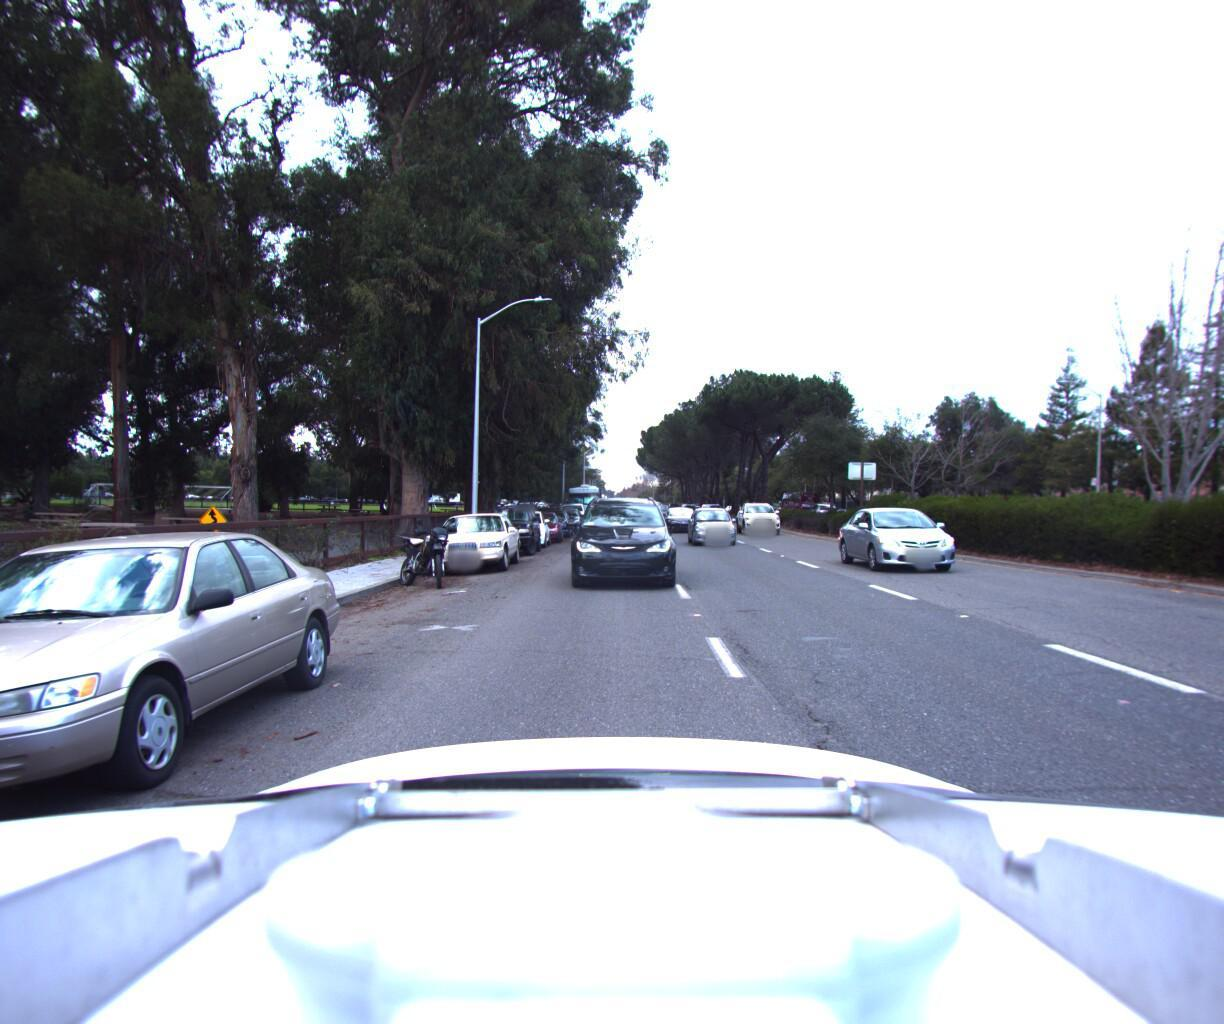car: (843, 504, 988, 581), (571, 490, 672, 592), (424, 506, 529, 577), (478, 493, 545, 556), (685, 501, 745, 546), (502, 500, 556, 547), (735, 496, 784, 533), (521, 506, 566, 541), (533, 504, 575, 537), (663, 504, 702, 536), (549, 503, 586, 531), (556, 498, 590, 528)
motorcycle: (394, 510, 473, 589)
other_vehicle: (565, 477, 602, 523)
